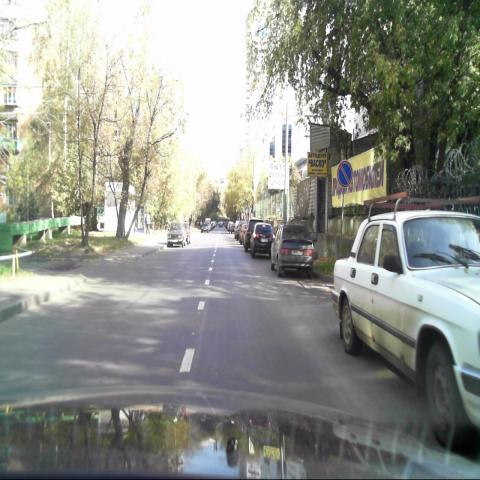3_28: (336, 158, 354, 188)
